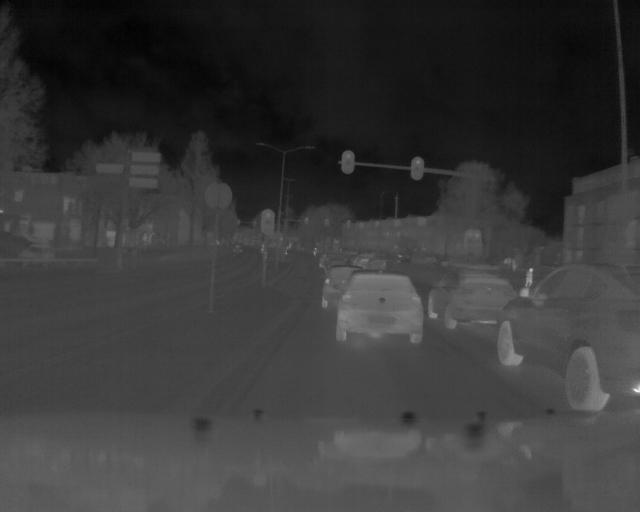car: (496, 288, 640, 411), (333, 271, 426, 348), (431, 271, 494, 328)
person: (524, 265, 535, 287)
